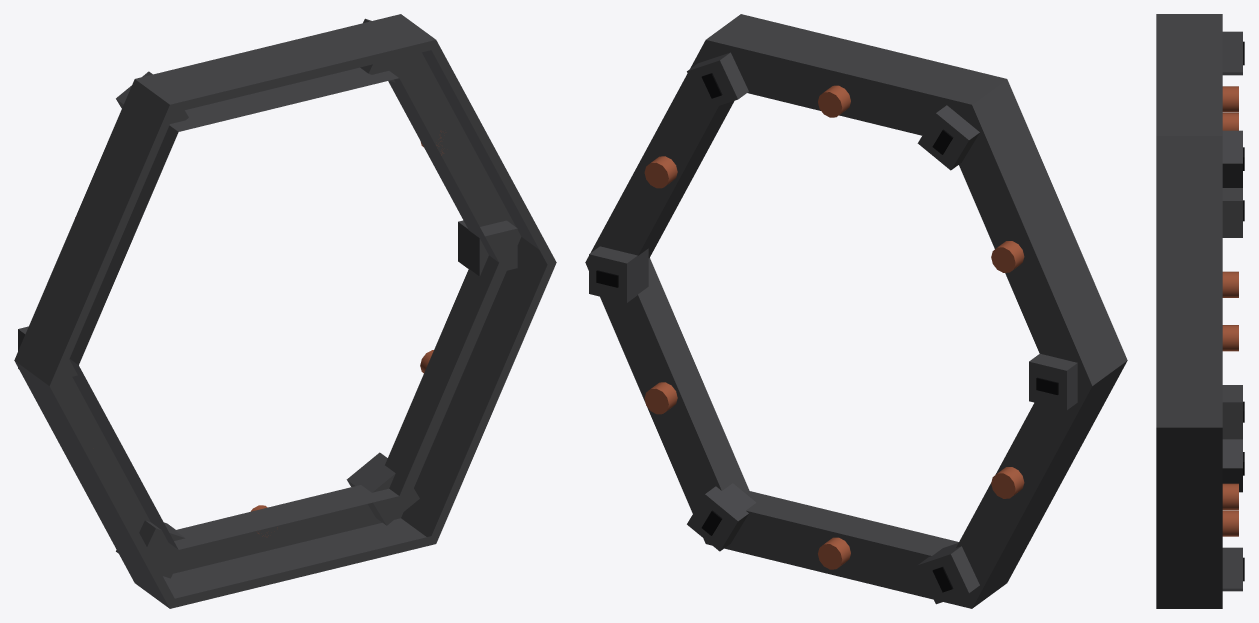
Rendered from pod4_pyro.obj.
3 views of the same model, side by side, from view 1: azimuth 30°, elevation 25°; view 2: azimuth 150°, elevation 25°; view 3: azimuth 270°, elevation 25° (orthographic). The views are drawn at different scales.
Parts seen in each view (by area): view 1: pod4_pyro; view 2: pod4_pyro; view 3: pod4_pyro.
Boxes of the visible parts, <box> form: pod4_pyro: <box>14,14,556,608</box>; pod4_pyro: <box>585,14,1127,608</box>; pod4_pyro: <box>1156,14,1244,608</box>.
Size of the model in its own units: 1.66 by 1.58 by 0.267.
